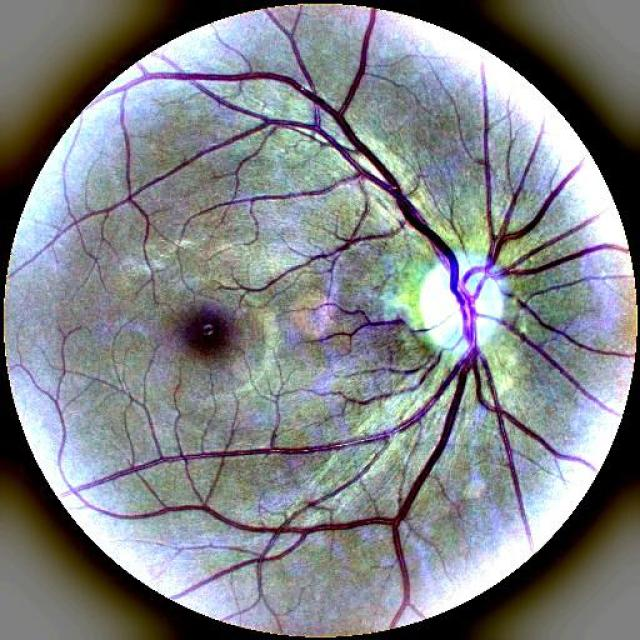Macula: (186, 306, 231, 357)
Nerves: (170, 10, 634, 628), (311, 292, 446, 341), (311, 232, 390, 289)
Optic Disk: (417, 249, 505, 359)
